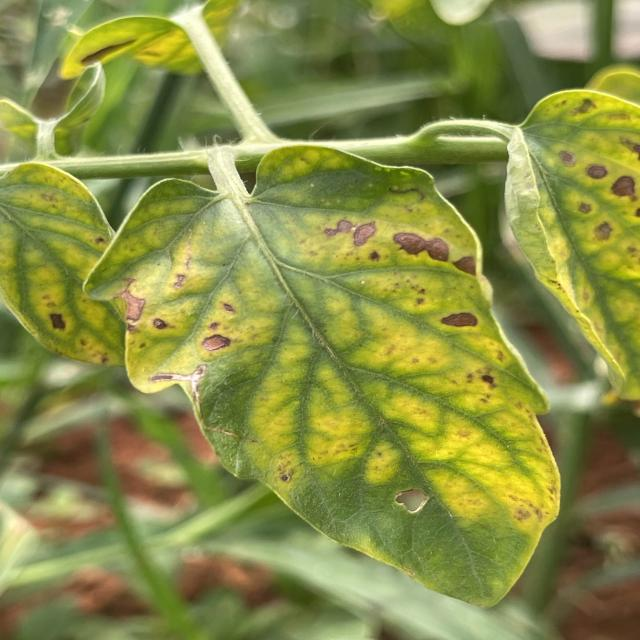tomato_early blight: (83, 146, 560, 606), (505, 88, 640, 399), (0, 157, 142, 375), (51, 0, 247, 78)
